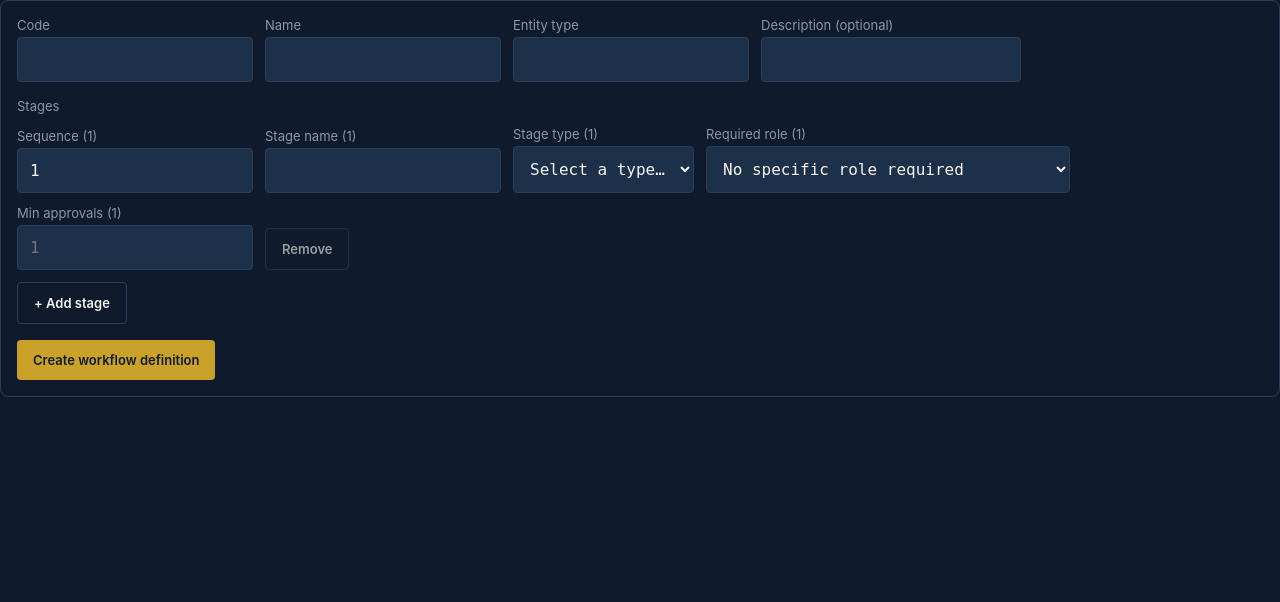
CreateWorkflowDefinitionForm › disables submission and shows a warning when two stages share a sequence number
Click the button "+ Add stage".
click(72, 303)  # box [17, 282, 127, 324]
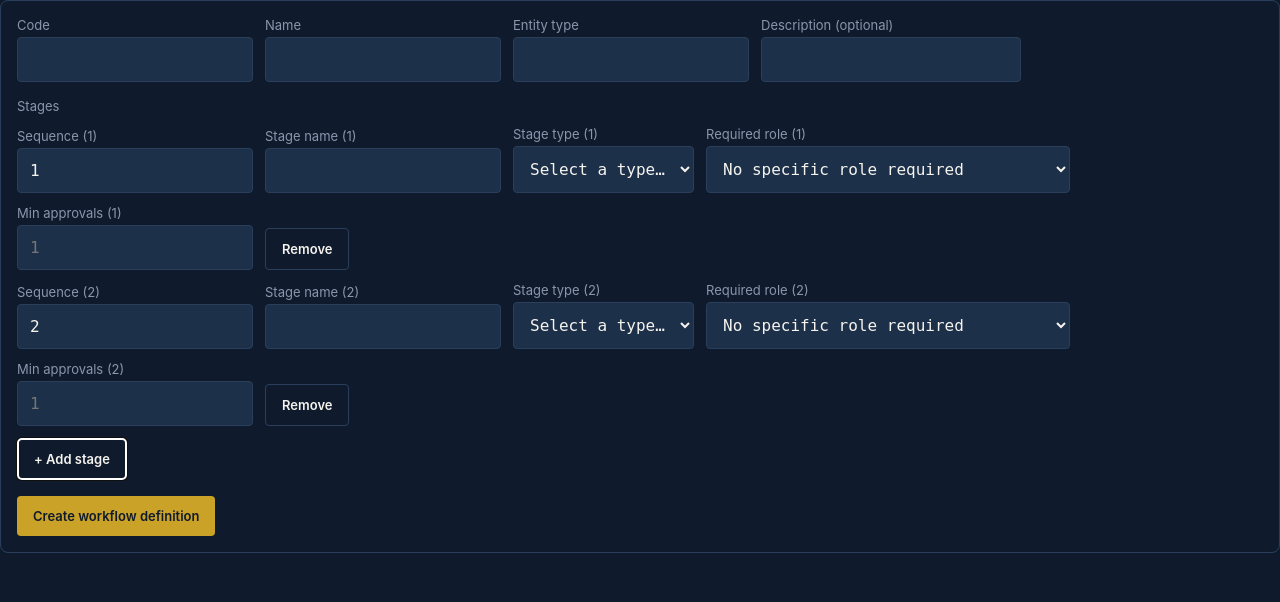
Replace the text in the number field labelled "Sequence (2)" with "1" at (135, 326), box [17, 304, 253, 349]
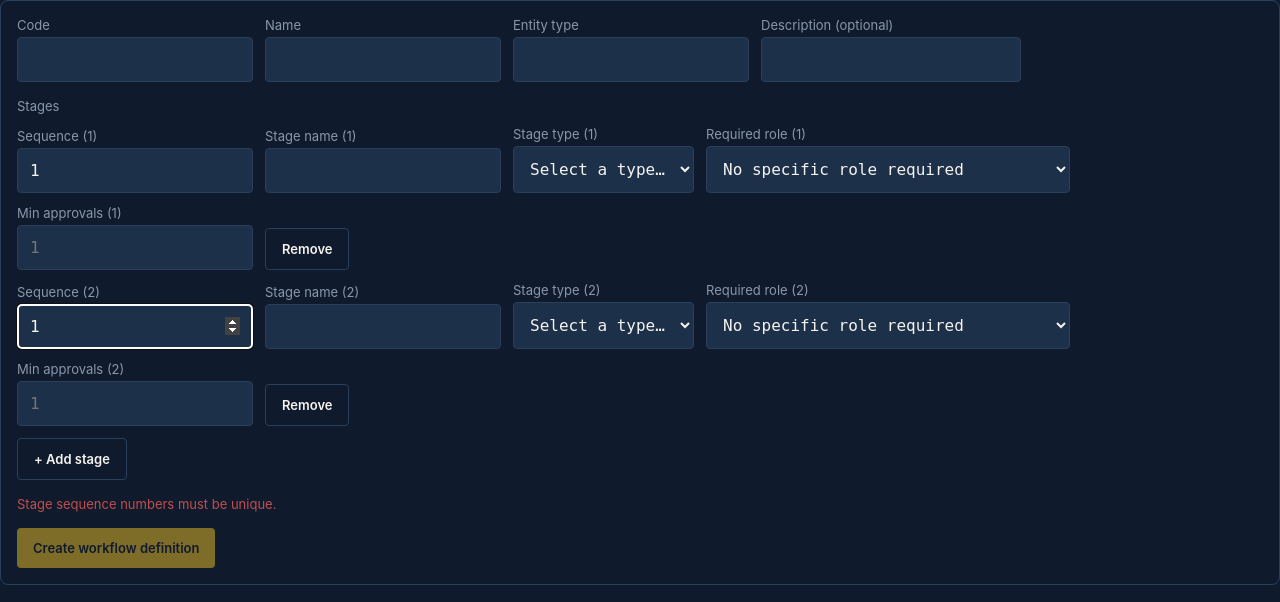
Expected: the text "Stage sequence numbers must be unique." is shown, [17, 496, 276, 512]
Expected: the button "Create workflow definition" is disabled, [17, 528, 216, 568]
